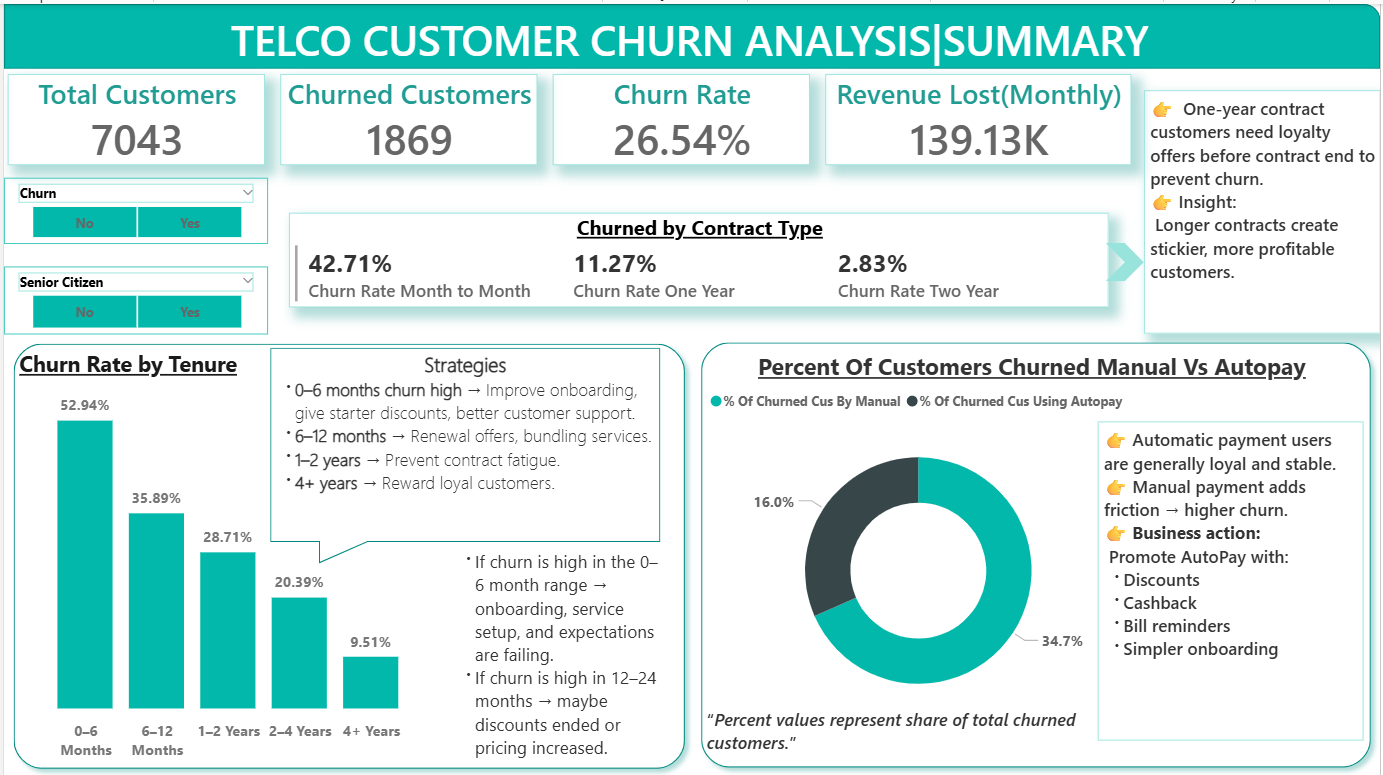

The page's visual inventory and layout, read from the dashboard file:
{"tool":"powerbi","page":{"name":"Summary","canvas":[1280,720],"ordinal":0},"visuals":[{"type":"shape","box":[0,0,1280.3,60.4],"z":0},{"type":"shape","box":[639.4,306.3,640.9,413.4],"z":0,"group":"g3"},{"type":"group","id":"g1","title":"Group 1","box":[0,307,642.4,413.4],"z":0,"group":"g2"},{"type":"shape","box":[0,307,642.4,413.4],"z":0,"group":"g1"},{"type":"card","title":"Total Customers","fields":{"Values":["Measures Table.Total customers"]},"box":[3.5,65.1,239.5,84.9],"z":1000},{"type":"shape","box":[247.3,319.4,362.8,200.7],"z":1000,"group":"g2"},{"type":"clusteredColumnChart","title":"Churn Rate by Tenure","fields":{"Y":["Measures Table.Churn Rate"],"Category":["Customer Churn Table.Tenure Group"]},"box":[9.6,320.6,391.1,389.6],"z":1000,"group":"g1"},{"type":"donutChart","title":"Churned  Using Autopay vs Non Autopay","fields":{"Y":["Measures Table.Churned % By Manual","Measures Table.Churned % Using Autopay"]},"box":[642.9,351,415.4,326.6],"z":1000,"group":"g3"},{"type":"card","title":"Churn Rate","fields":{"Values":["Measures Table.Churn Rate"]},"box":[510.5,65.1,239.5,84.9],"z":2000},{"type":"textbox","box":[247.3,317.9,362.8,172.5],"z":2000,"group":"g2"},{"type":"textbox","box":[1017.3,389.2,247.3,296.5],"z":2000,"group":"g3"},{"type":"textbox","box":[414.6,501.8,206.7,209.7],"z":2000,"group":"g1"},{"type":"card","title":"Churned Customers","fields":{"Values":["Measures Table.Churned customers"]},"box":[257,65.1,239.5,84.9],"z":3000},{"type":"textbox","box":[696.2,318.2,532.9,45.1],"z":3000,"group":"g3"},{"type":"card","title":"Revenue Lost(Monthly)","fields":{"Values":["Measures Table.Revenue Lost from Churn"]},"box":[764,65.1,284.9,84.9],"z":4000},{"type":"multiRowCard","title":"Churned by Contract Type","fields":{"Values":["Measures Table.Churned People With Month-to-Month Subscription %","Measures Table.Churned People With One Year Subscription %","Measures Table.Churned People With Two Year Subscription %"]},"box":[265.1,194.2,762.8,88.4],"z":5000},{"type":"group","id":"g2","title":"Group 2","box":[0,307,641.9,412.8],"z":6000},{"type":"group","id":"g3","title":"Group 3","box":[639.4,306.3,640.9,413.4],"z":7000,"group":"g4"},{"type":"textbox","box":[1060.5,80.2,219.8,226.7],"z":8000},{"type":"shape","box":[1024.4,222.1,36,36],"z":9000},{"type":"slicer","fields":{"Values":["Customer Churn Table.Churn"]},"box":[0,161.2,245.9,61.5],"z":10000},{"type":"slicer","fields":{"Values":["Customer Churn Table.Senior Citizen"]},"box":[0,244.6,245.9,62.9],"z":11000},{"type":"textbox","box":[649,649,368.9,58.8],"z":11001,"group":"g4"},{"type":"group","id":"g4","title":"Group 4","box":[639.4,306.3,640.9,413.4],"z":11002}]}

Visuals, with their boxes in screenshot pixels (x1, y1, x2, y2), scaled from the page's 1280x720 canvas onto the 1383x775 screenshot:
shape: x1=0 y1=0 x2=1382 y2=65
shape: x1=691 y1=330 x2=1382 y2=774
"Group 1" group: x1=0 y1=330 x2=694 y2=774
shape: x1=0 y1=330 x2=694 y2=774
"Total Customers" card: x1=4 y1=70 x2=263 y2=161
shape: x1=267 y1=344 x2=659 y2=560
"Churn Rate by Tenure" clusteredColumnChart: x1=10 y1=345 x2=433 y2=764
"Churned  Using Autopay vs Non Autopay" donutChart: x1=695 y1=378 x2=1143 y2=729
"Churn Rate" card: x1=552 y1=70 x2=810 y2=161
textbox: x1=267 y1=342 x2=659 y2=528
textbox: x1=1099 y1=419 x2=1366 y2=738
textbox: x1=448 y1=540 x2=671 y2=766
"Churned Customers" card: x1=278 y1=70 x2=536 y2=161
textbox: x1=752 y1=343 x2=1328 y2=391
"Revenue Lost(Monthly)" card: x1=825 y1=70 x2=1133 y2=161
"Churned by Contract Type" multiRowCard: x1=286 y1=209 x2=1111 y2=304
"Group 2" group: x1=0 y1=330 x2=694 y2=774
"Group 3" group: x1=691 y1=330 x2=1382 y2=774
textbox: x1=1146 y1=86 x2=1382 y2=330
shape: x1=1107 y1=239 x2=1146 y2=278
slicer - Customer Churn Table.Churn: x1=0 y1=174 x2=266 y2=240
slicer - Customer Churn Table.Senior Citizen: x1=0 y1=263 x2=266 y2=331
textbox: x1=701 y1=699 x2=1100 y2=762
"Group 4" group: x1=691 y1=330 x2=1382 y2=774
